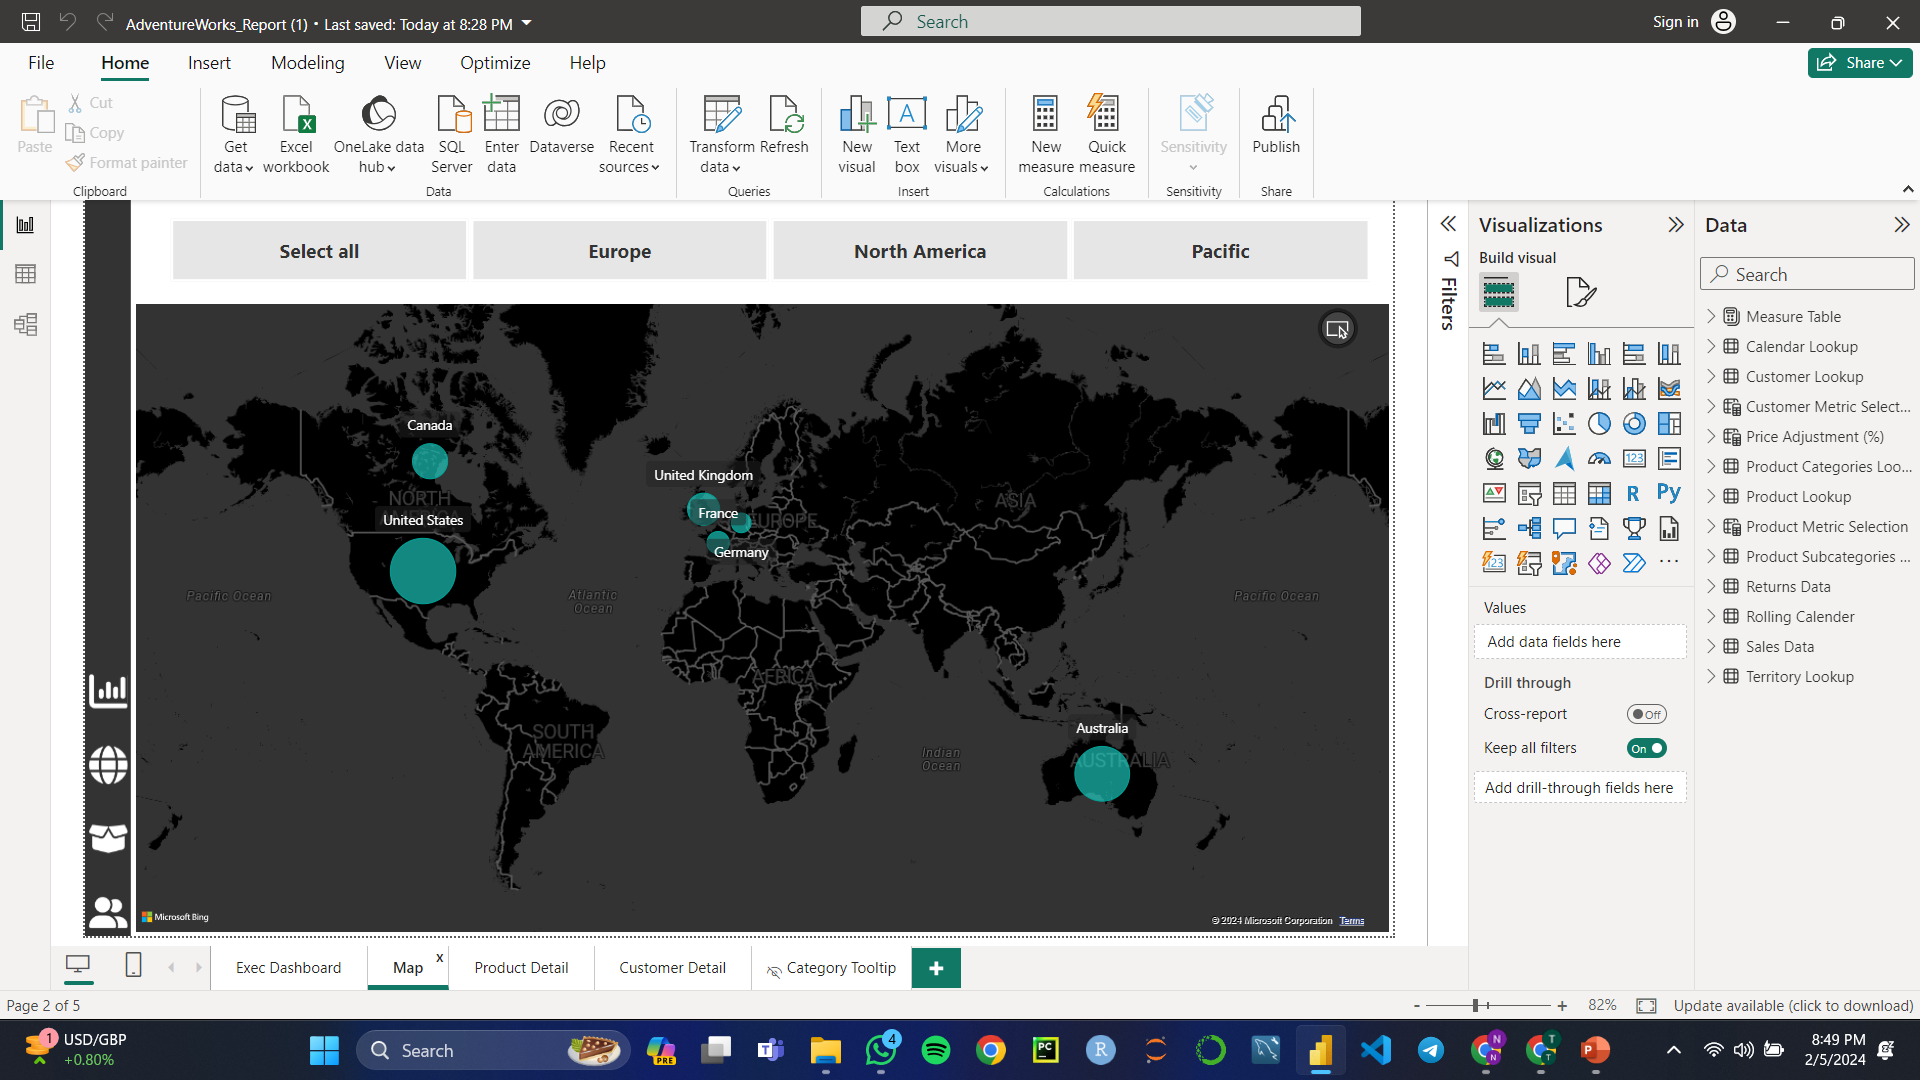

Layout of this report page (visuals, bound fields, positions):
{"tool":"powerbi","page":{"name":"Map","canvas":[1280,720],"ordinal":1},"visuals":[{"type":"shape","box":[0,0,45,720],"z":0},{"type":"actionButton","box":[0,456,45.8,48.2],"z":0,"group":"g1"},{"type":"map","fields":{"Category":["Territory Lookup.Country"],"Size":["Measure Table.Total Orders"]},"box":[45.2,96,1235.3,623.8],"z":1000},{"type":"actionButton","box":[0,599.9,45.8,48.2],"z":1000,"group":"g1"},{"type":"slicer","fields":{"Values":["Territory Lookup.Continent"]},"box":[57.6,11,1223,75.4],"z":2000},{"type":"actionButton","box":[0,671.9,45.8,48.2],"z":2000,"group":"g1"},{"type":"actionButton","box":[0,528,45.8,48.2],"z":3000,"group":"g1"},{"type":"group","id":"g1","title":"Navigation Buttons","box":[0,456,45.9,264.1],"z":3000}]}

Visuals, with their boxes on the page's 1280x720 design canvas (x1, y1, x2, y2). These are canvas units, not pixel positions in the 1920x1080 screenshot, which may show the page scaled, cropped or inside an application window:
shape: rect(0, 0, 45, 720)
actionButton: rect(0, 456, 46, 504)
map - Territory Lookup.Country x Measure Table.Total Orders: rect(45, 96, 1280, 720)
actionButton: rect(0, 600, 46, 648)
slicer - Territory Lookup.Continent: rect(58, 11, 1281, 86)
actionButton: rect(0, 672, 46, 720)
actionButton: rect(0, 528, 46, 576)
"Navigation Buttons" group: rect(0, 456, 46, 720)
